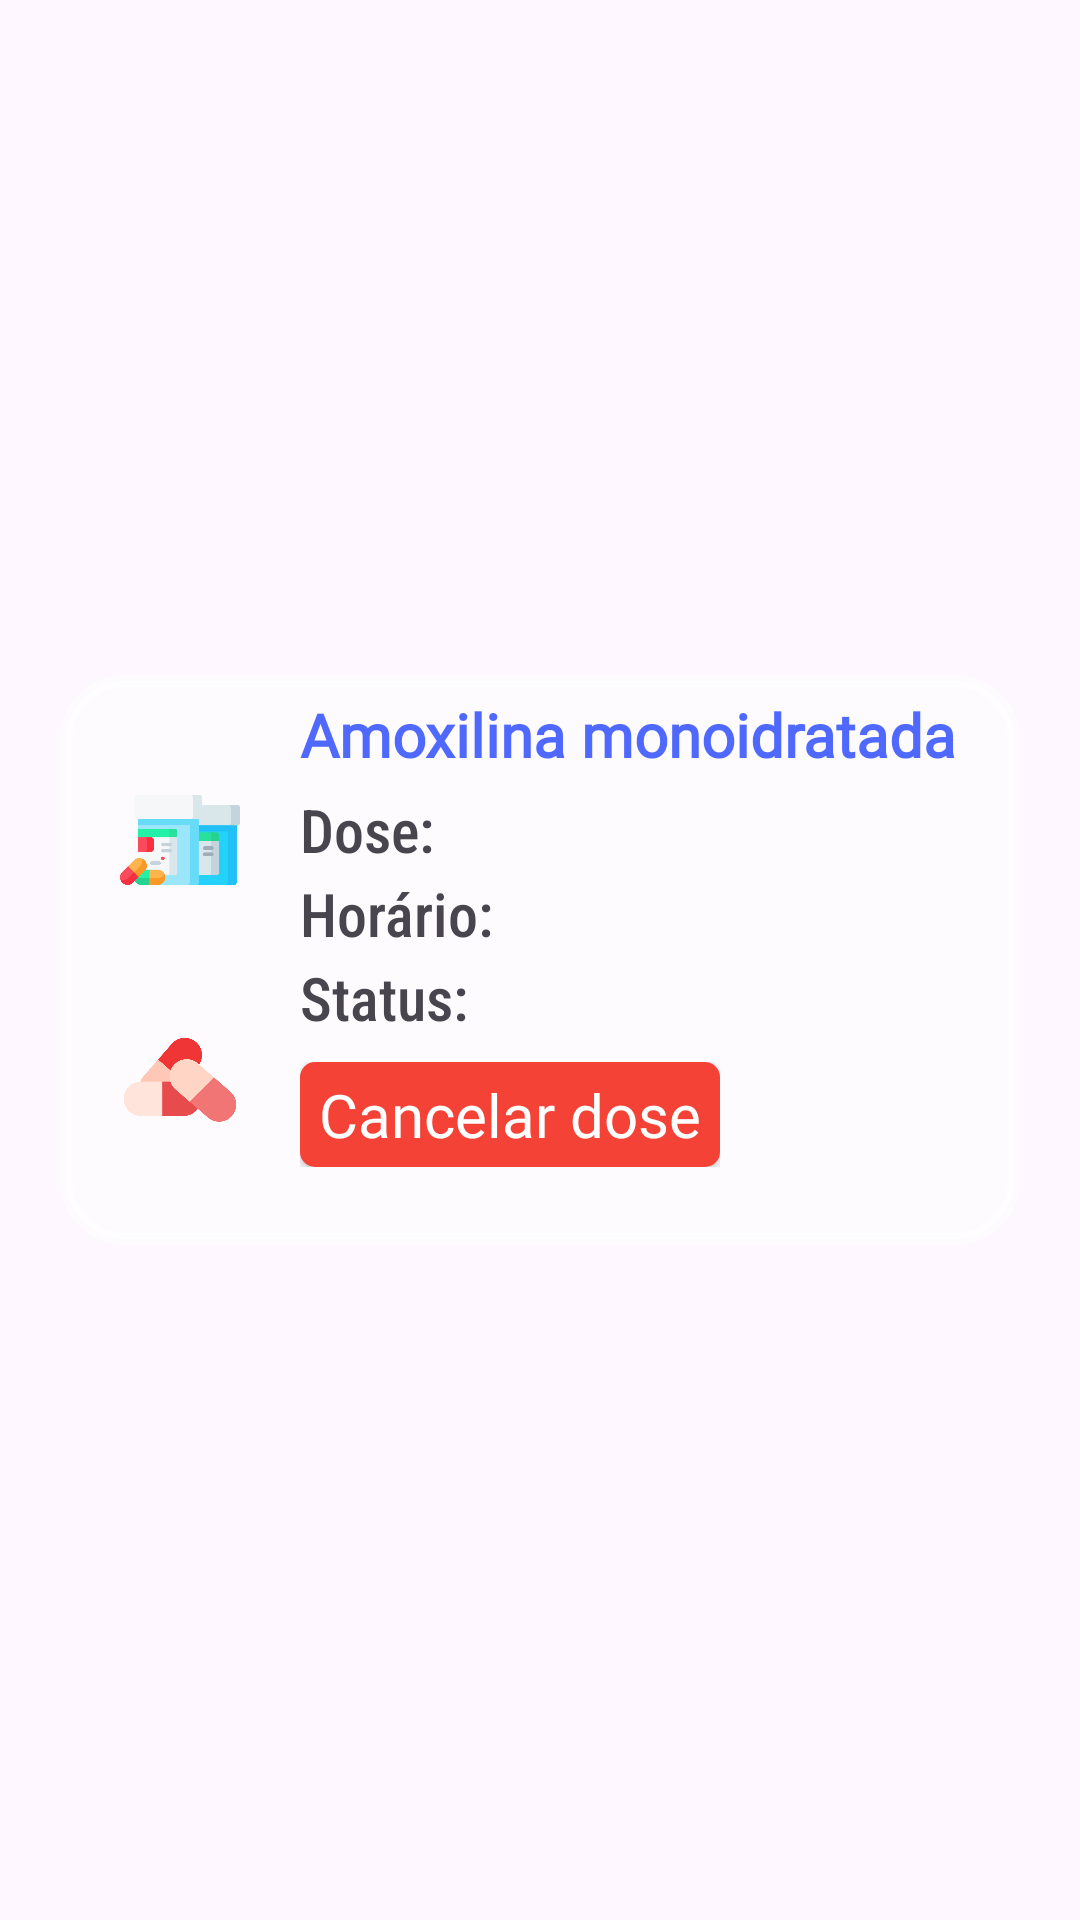

Locate icon controls on the screen. Image size 1080 × 1920, boxes as (x1, y1, x2, y2).
medicamento home: (120, 795, 240, 885)
pill type: (124, 1038, 236, 1122)
